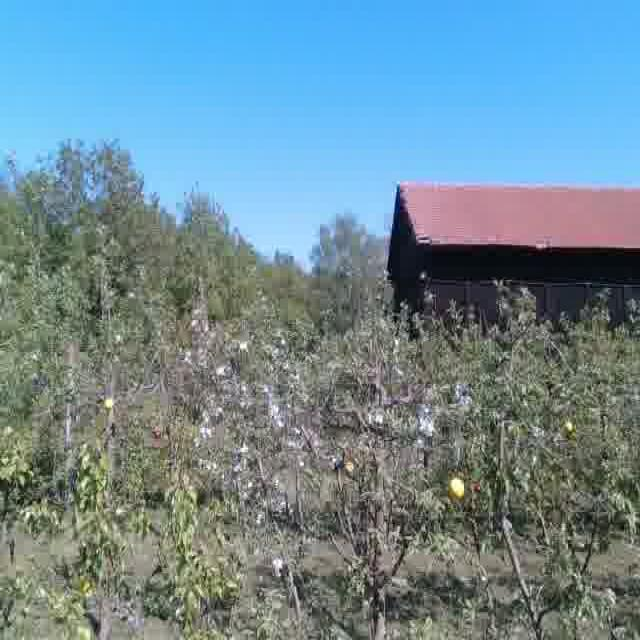red: (472, 479, 481, 492), (153, 428, 161, 439)
yellow: (447, 475, 467, 500), (563, 418, 577, 433), (102, 397, 114, 411)
